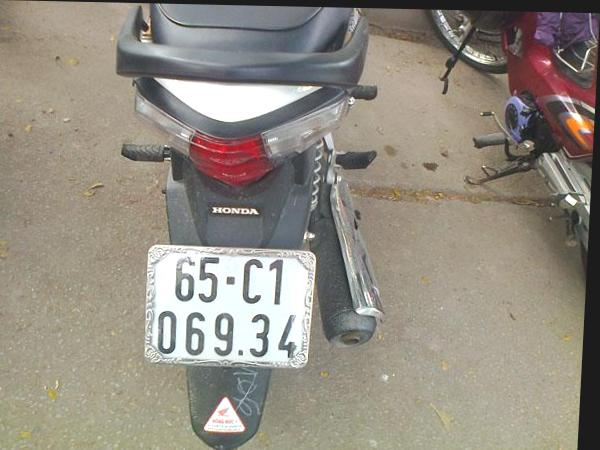License_Plate: (148, 245, 316, 368)
